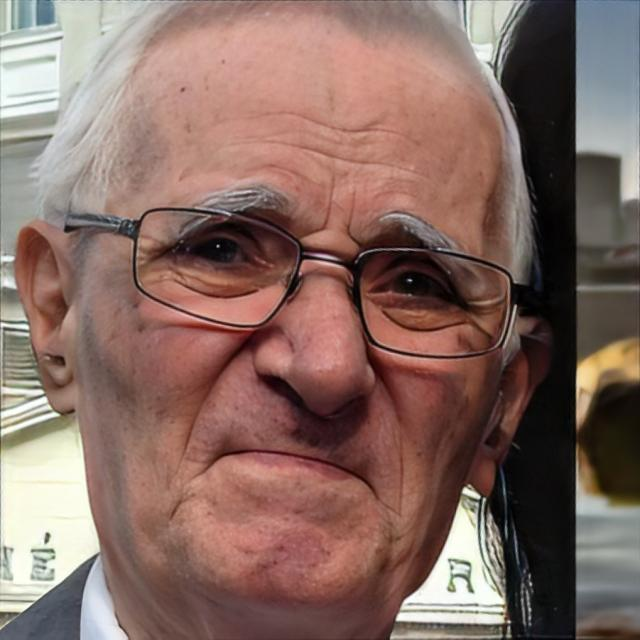disgust: (78, 1, 507, 616)
